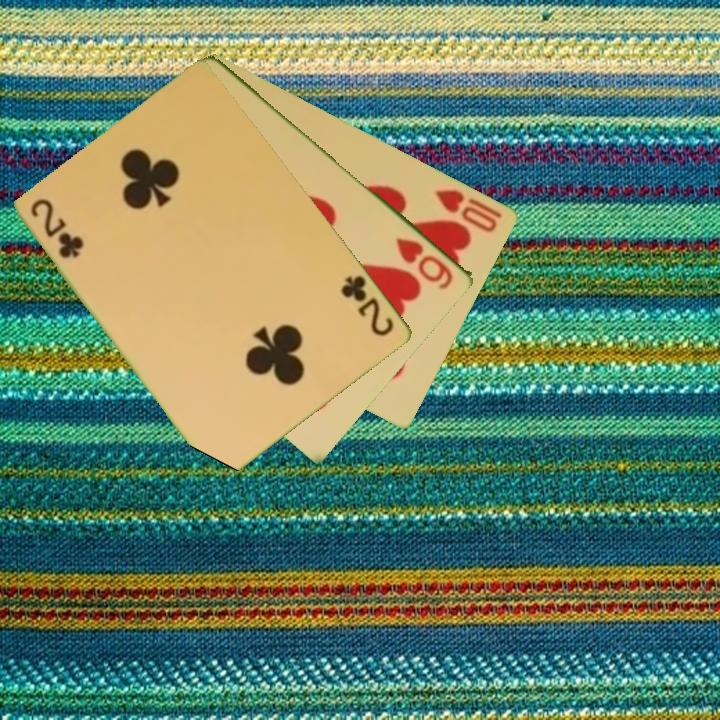10h: (432, 185, 506, 236)
2c: (338, 271, 398, 340), (27, 195, 85, 262)
6h: (393, 234, 457, 293)
